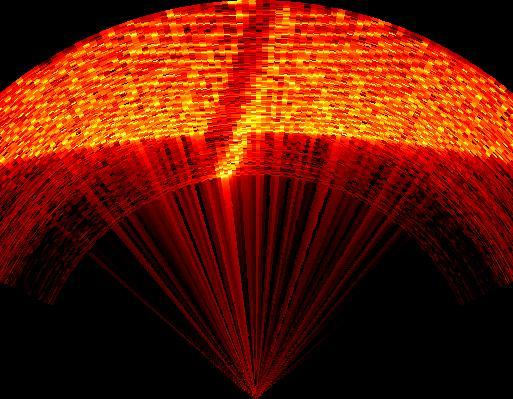pipe: (204, 2, 278, 170)
